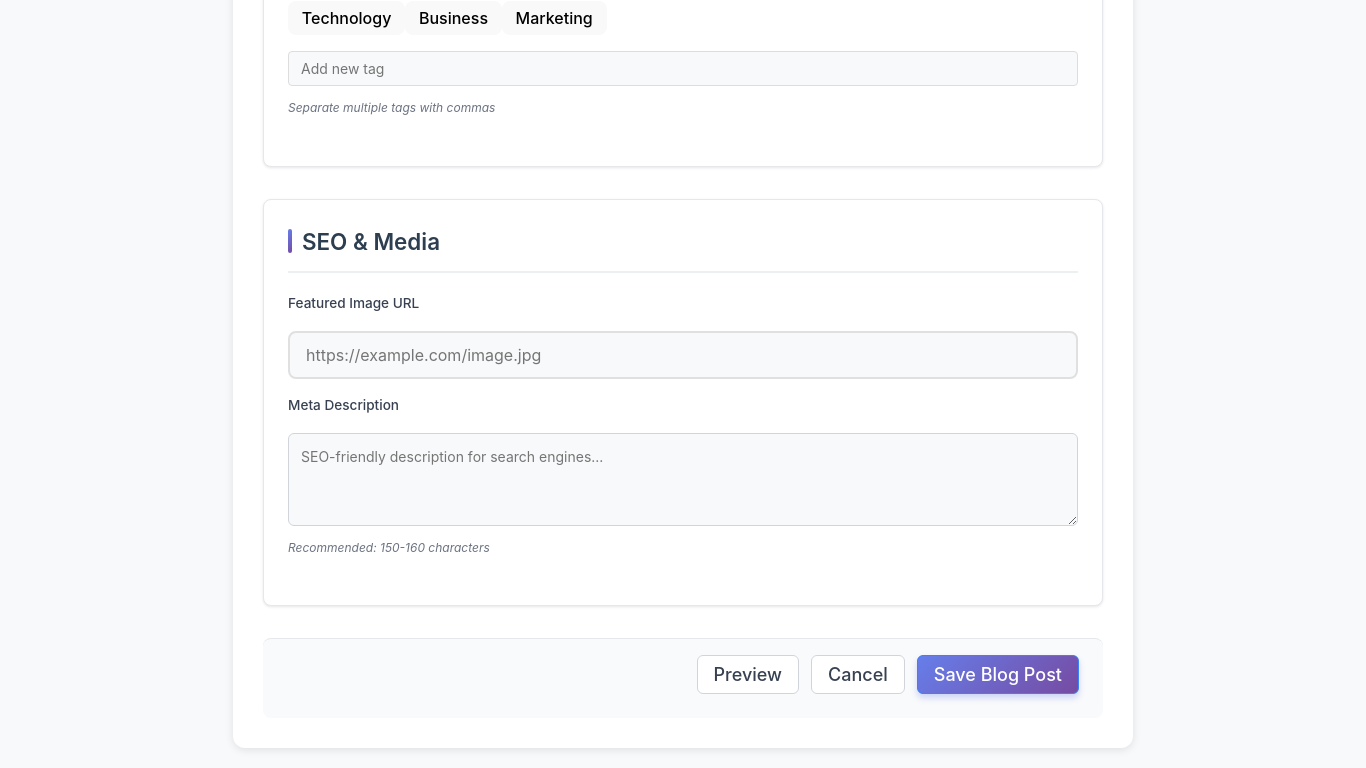
Scenario: BlogPostForm Component › Form Validation › should show error for empty title
(page scrolled)
Click the button "Save Blog Post": (998, 675) [917, 655, 1079, 694]
(page scrolled)
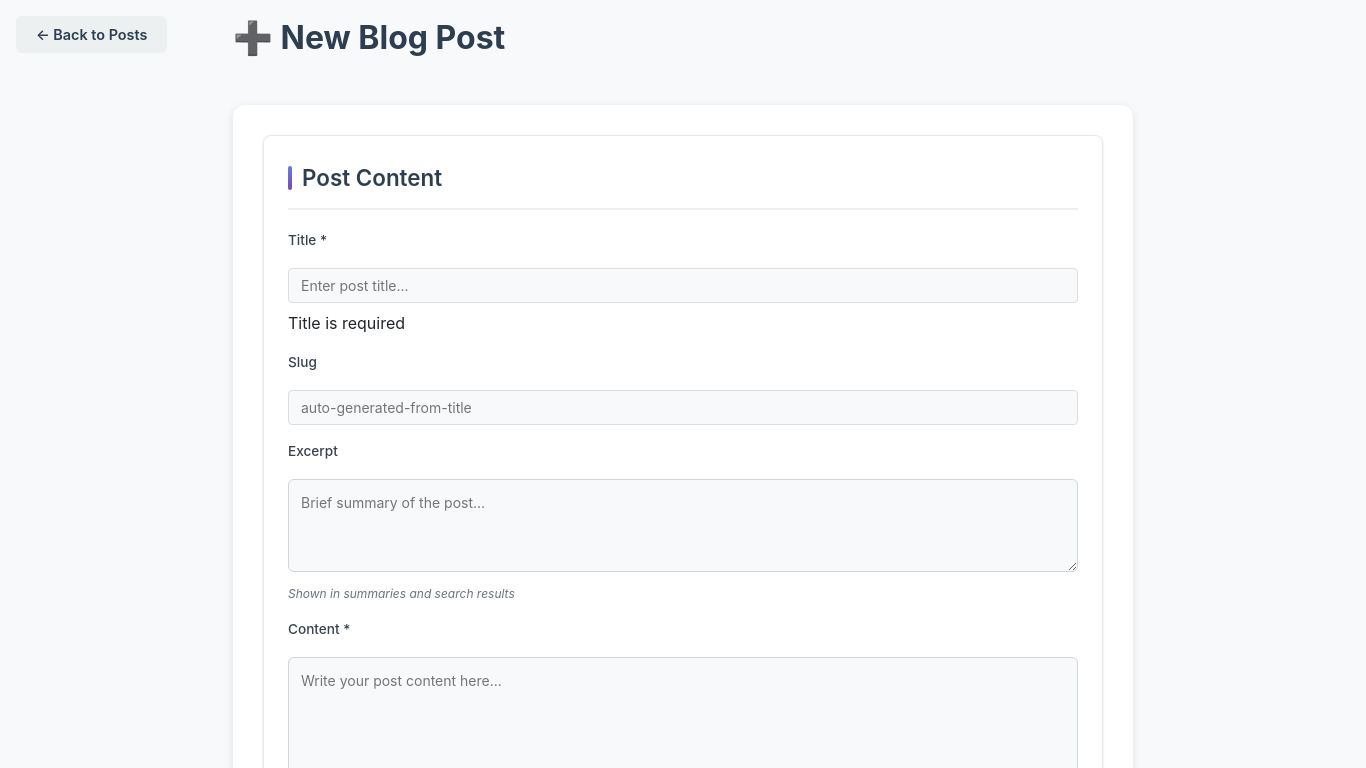
Result: the text "Title is required" is shown at [288, 313, 405, 333]
